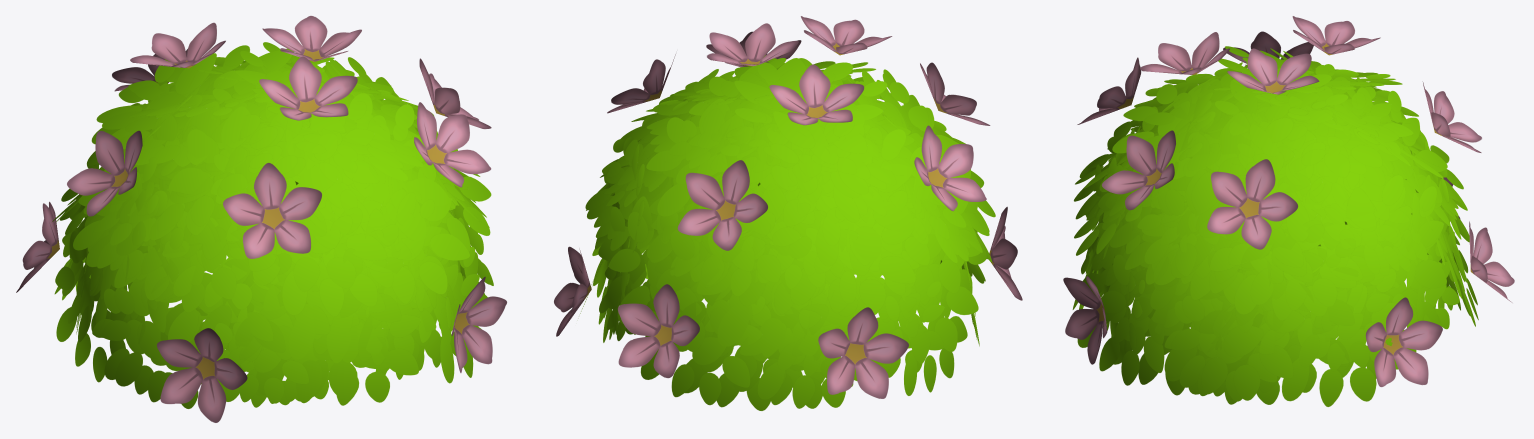
Rendered from Bush_Flowers.glb.
The picture shows the model from 3 angles, left to right: view 1: azimuth 30°, elevation 25°; view 2: azimuth 150°, elevation 25°; view 3: azimuth 270°, elevation 25°; orthographic projection. The views are drawn at different scales.
Visible parts, largest first — view 1: Bush_Flowers; view 2: Bush_Flowers; view 3: Bush_Flowers.
Part boxes in pixels (x1,y1,x2,y2): Bush_Flowers: (16, 15, 506, 422); Bush_Flowers: (554, 16, 1022, 410); Bush_Flowers: (1063, 16, 1514, 406).
Bounding box in the file's own units: 1.09 × 0.7586 × 1.11.
2 materials, 2 textured.
